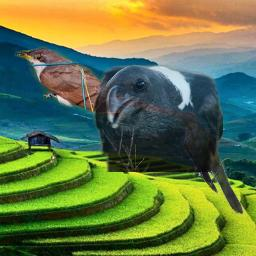Crow: (93, 64, 223, 172)
Cuckoo: (14, 44, 183, 126), (173, 111, 247, 215)
